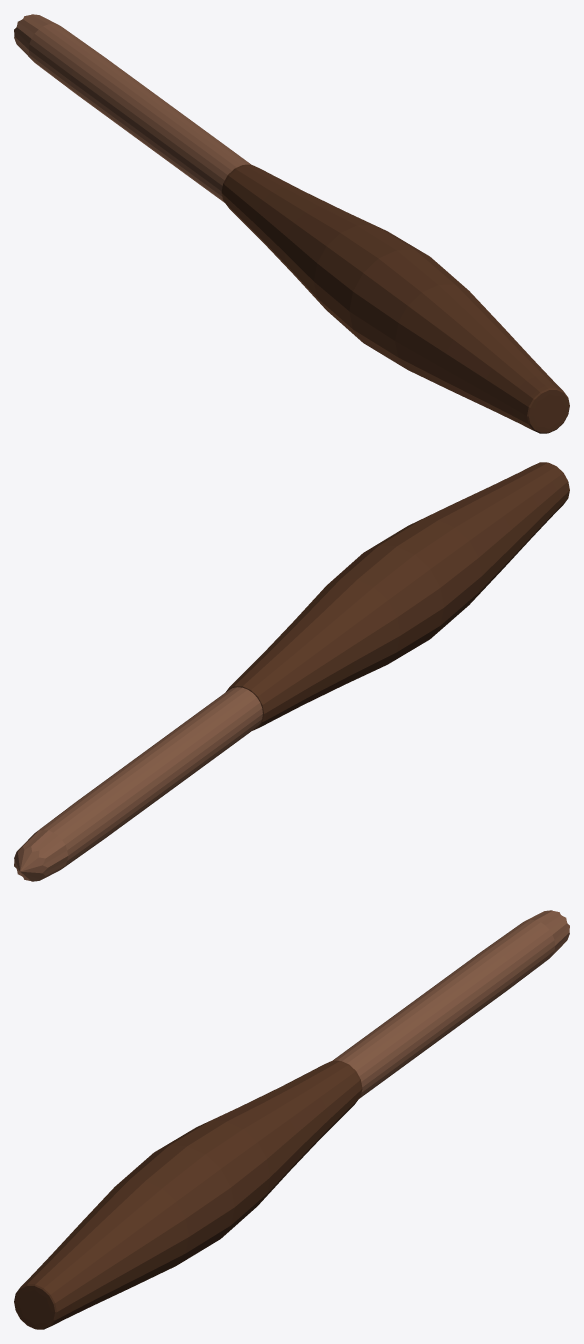
The model's file is Wand 6.glb.
The picture shows the model from 3 angles, top to bottom: view 1: azimuth 30°, elevation 25°; view 2: azimuth 150°, elevation 25°; view 3: azimuth 330°, elevation 25°; orthographic projection.
Visible parts, largest first — view 1: GeneratedWand; view 2: GeneratedWand; view 3: GeneratedWand.
Boxes of the visible parts, x1,y1,x2,y2 form: GeneratedWand: (14,14,569,433); GeneratedWand: (14,462,569,881); GeneratedWand: (14,910,569,1329).
Size of the model in its own units: 0.0499 by 0.0499 by 0.4821.
